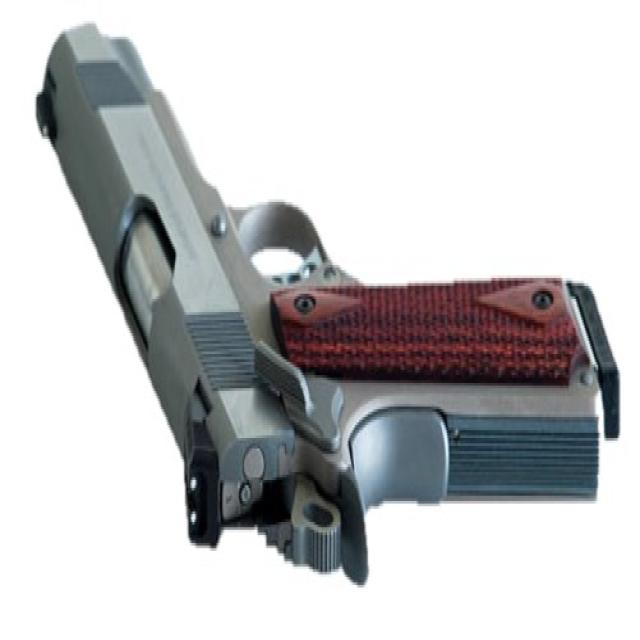pistol: (27, 14, 626, 592)
